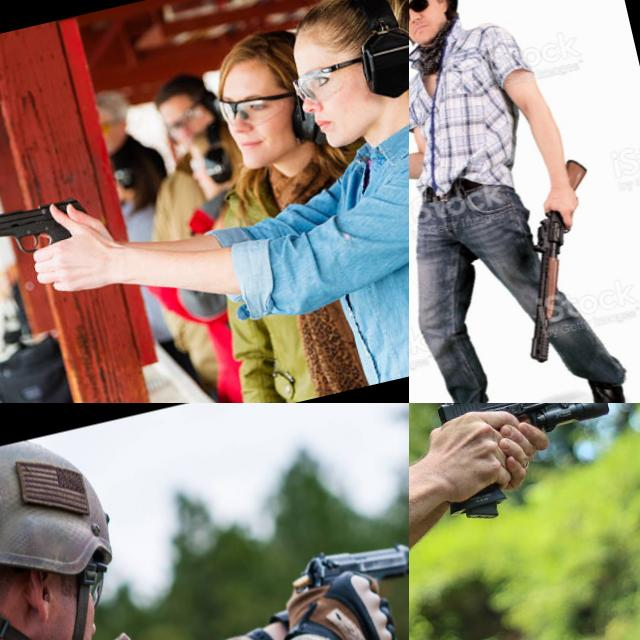handgun: (414, 403, 632, 535), (284, 522, 409, 623), (0, 188, 101, 273), (409, 115, 443, 188)
